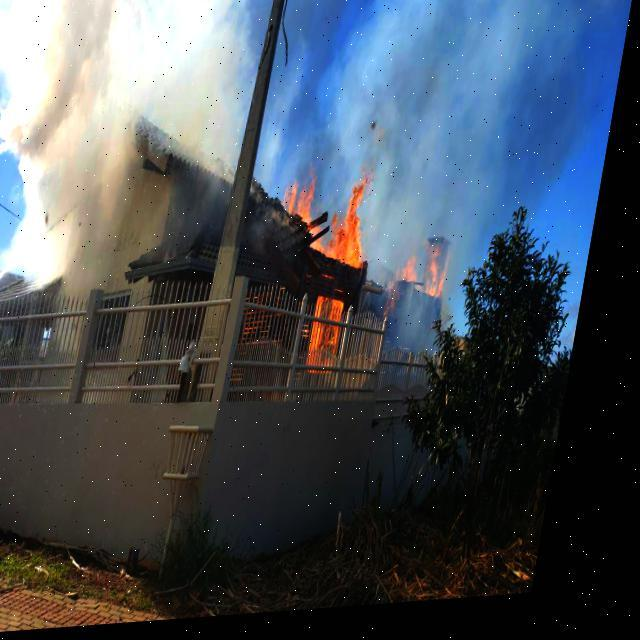Fire: (268, 182, 382, 362), (404, 234, 465, 312)
